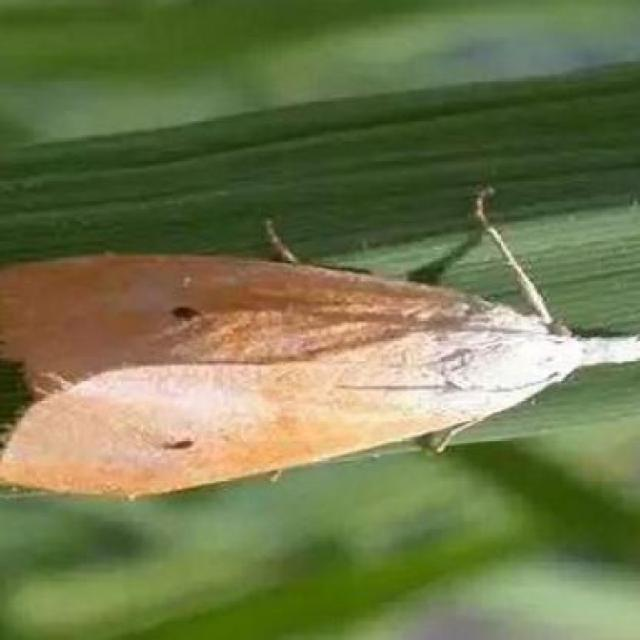stem-borer: (0, 237, 640, 505)
